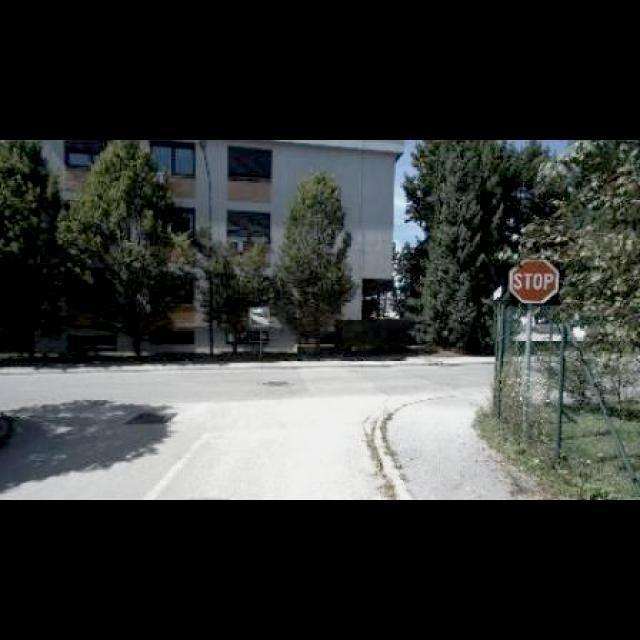Stop-Sign: (509, 260, 559, 304)
